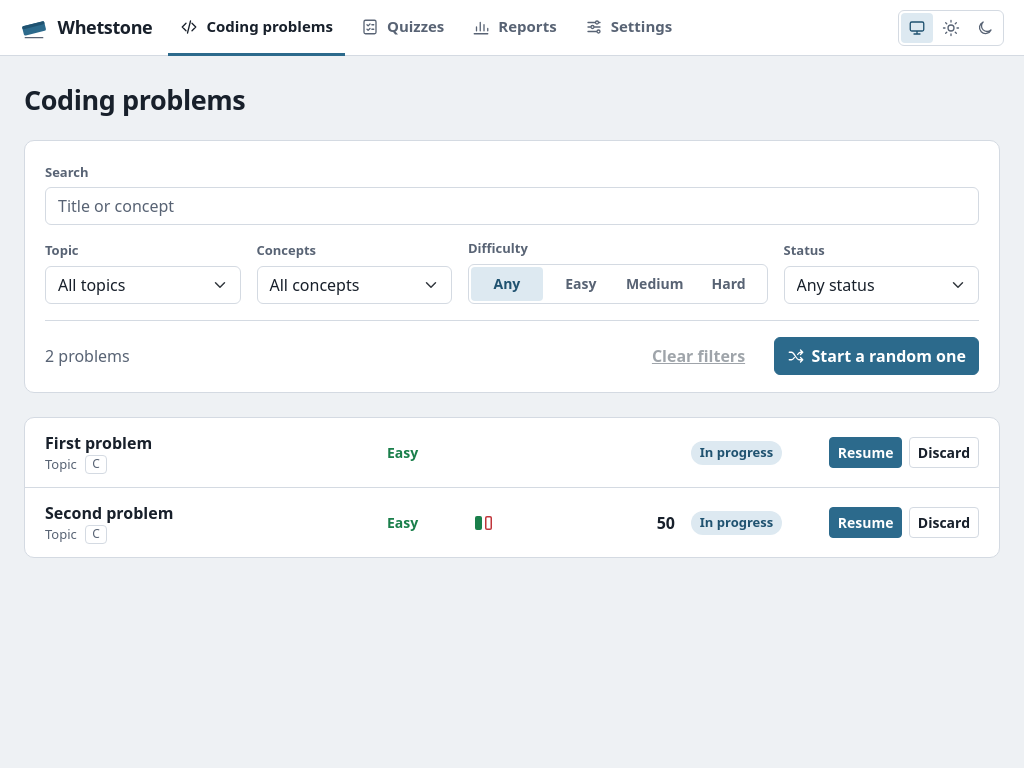
App › discards every open attempt after a confirm, back to the status of the last grade
The image size is (1024, 768).
What coordinates should you click on to do the following:
click the button with aria-label "Discard Second problem"
I would click on:
 (944, 523)
Its box is [909,507,979,538].
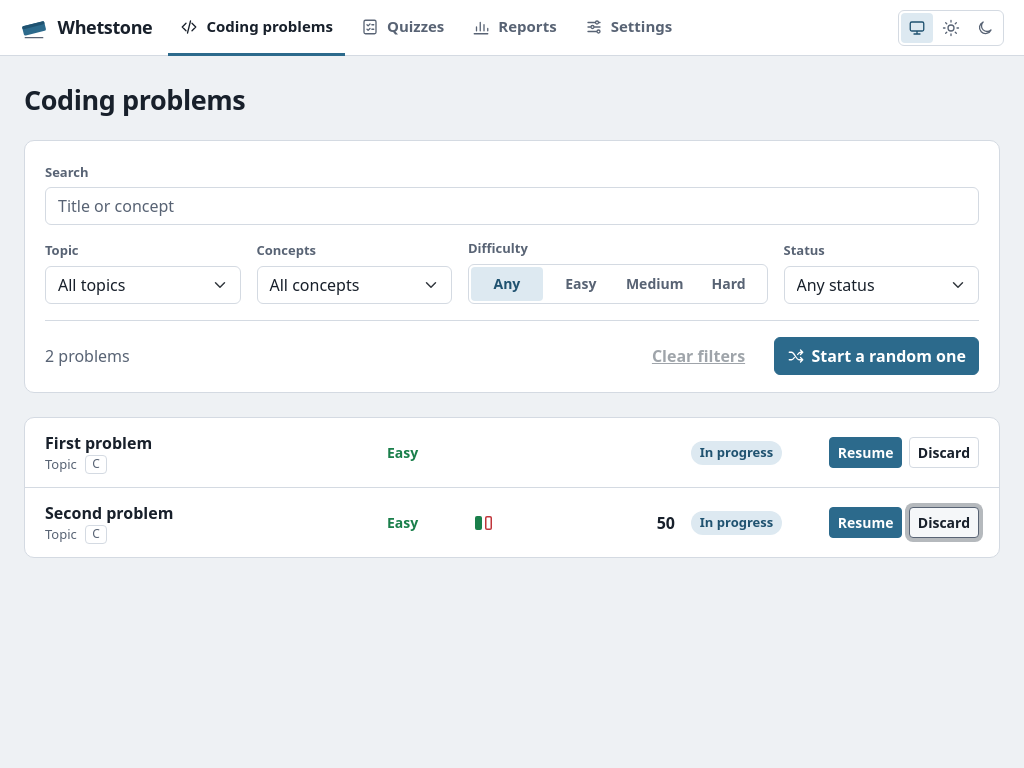
Expected: the list item "Second problem" shows "In progress", [700,513,773,531]
What coordinates should you click on to do the following:
click the button with aria-label "Discard Second problem"
I would click on:
 (944, 523)
Its box is [909,507,979,538].
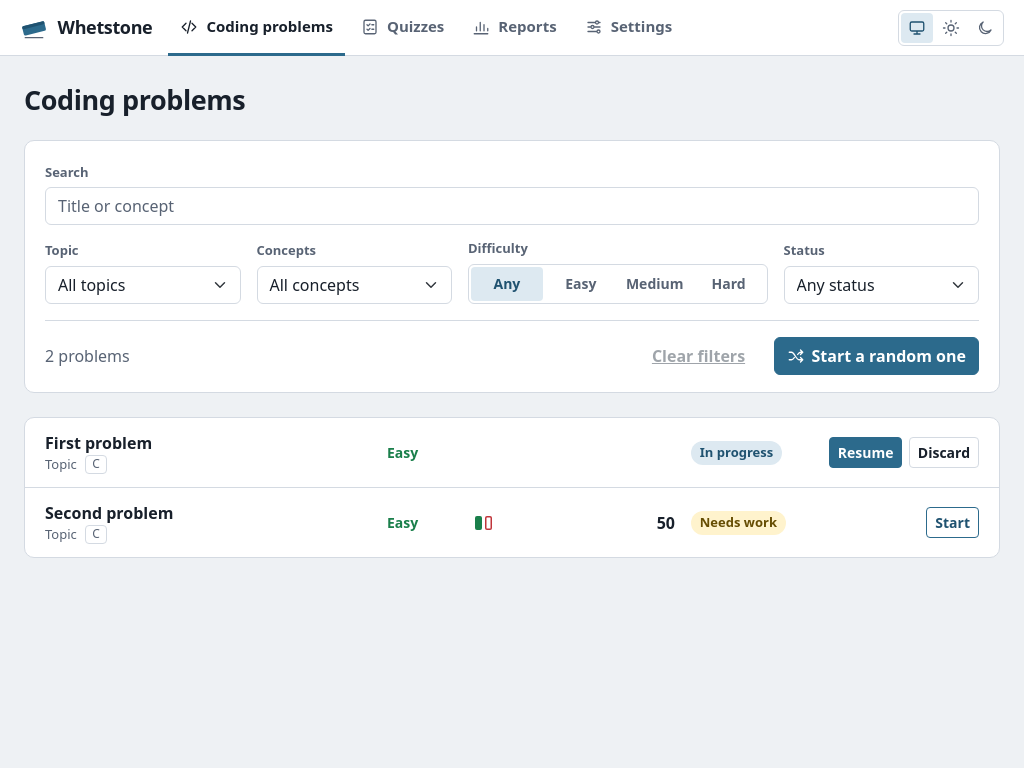
Expected: the list item "Second problem" shows "Needs work", [700,513,777,531]
What coordinates should you click on to do the following:
click the button with aria-label "Discard First problem"
I would click on:
 (944, 453)
Its box is [909,437,979,468].
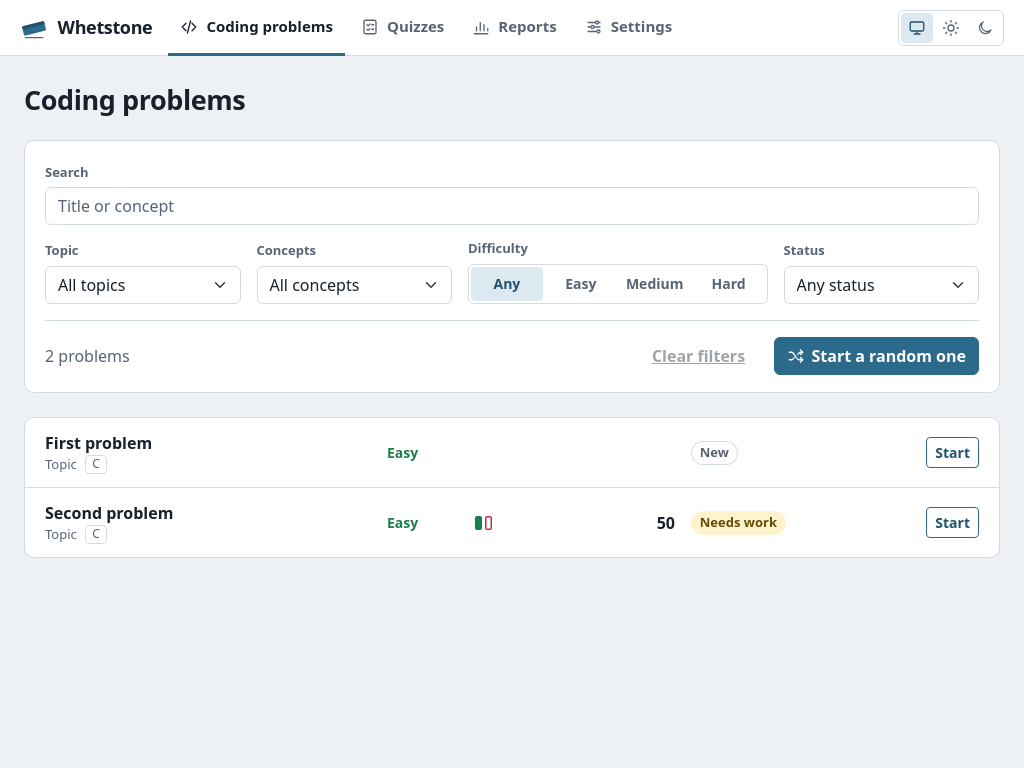
Expected: the list item "First problem" shows "New", [700,443,729,461]
What coordinates should you click on to do the following:
click the button with aria-label "Start First problem"
I would click on:
 (953, 453)
Its box is [926,437,979,468].
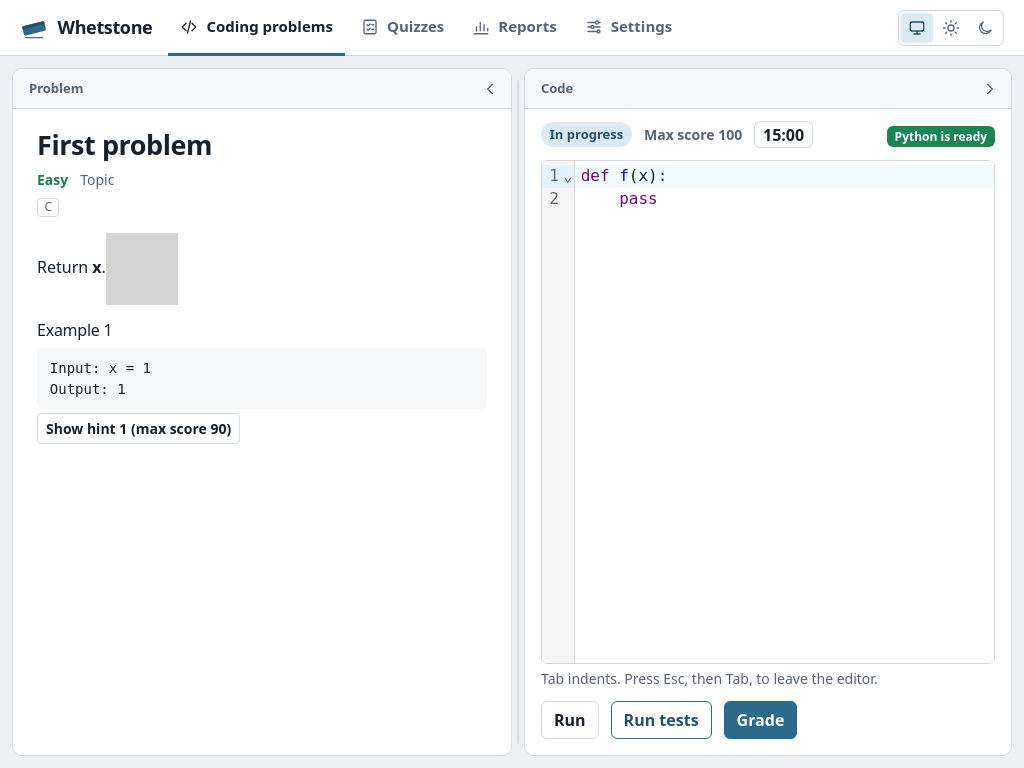
Expected: the field named "Solution code" shows "pass", [575,165,994,208]
